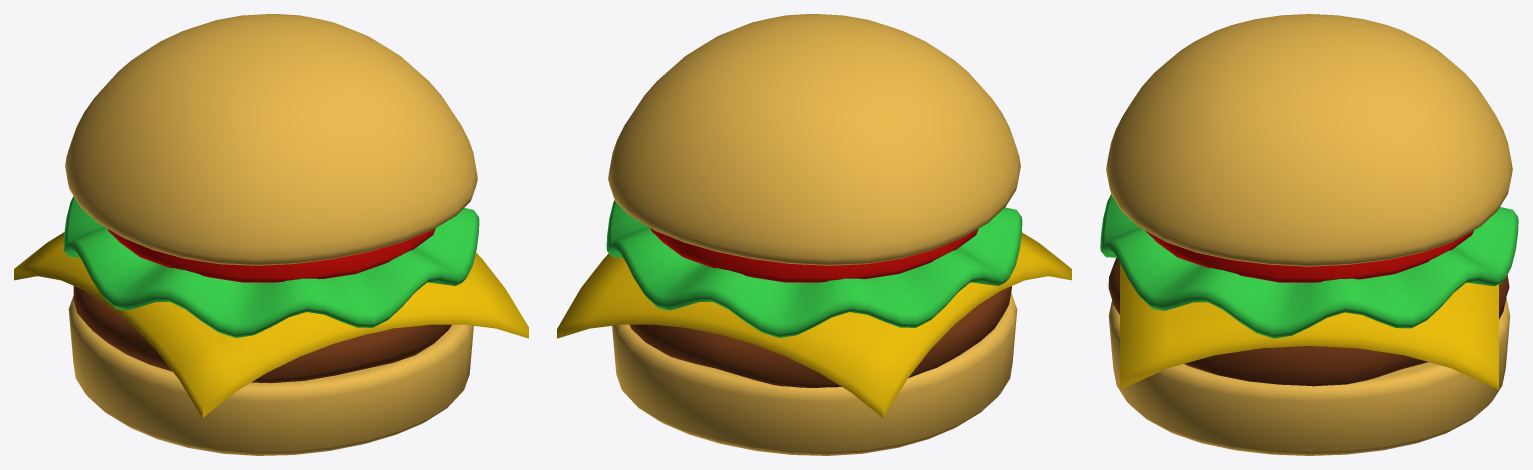
The model's file is Hamburger_full.fbx.
The picture shows the model from 3 angles, left to right: view 1: azimuth 30°, elevation 25°; view 2: azimuth 150°, elevation 25°; view 3: azimuth 270°, elevation 25°; orthographic projection.
Visible parts, largest first — view 1: Hamburger_full; view 2: Hamburger_full; view 3: Hamburger_full.
Boxes of the visible parts, left/top/right/bottom form: Hamburger_full: left=14, top=14, right=528, bottom=455; Hamburger_full: left=557, top=14, right=1071, bottom=455; Hamburger_full: left=1100, top=14, right=1518, bottom=455.
Size of the model in its own units: 94.39 by 86.16 by 94.16.
